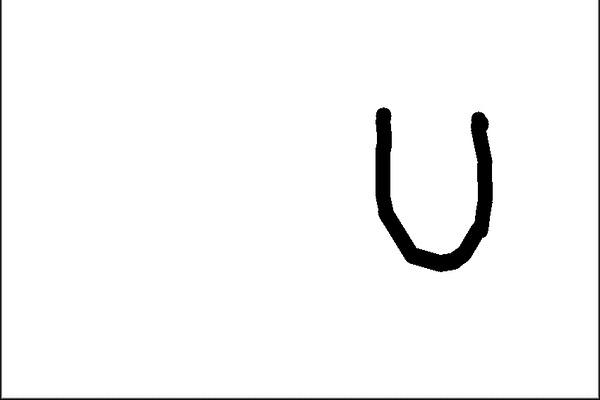U: (366, 96, 499, 273)
